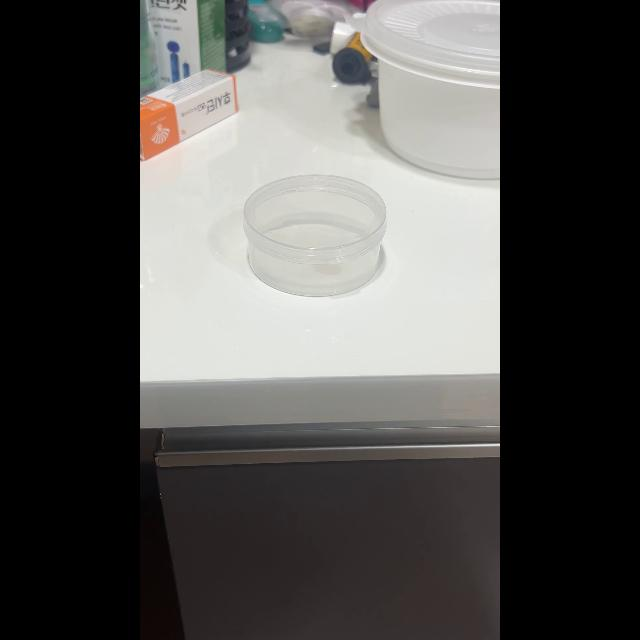clean: (242, 172, 388, 296)
